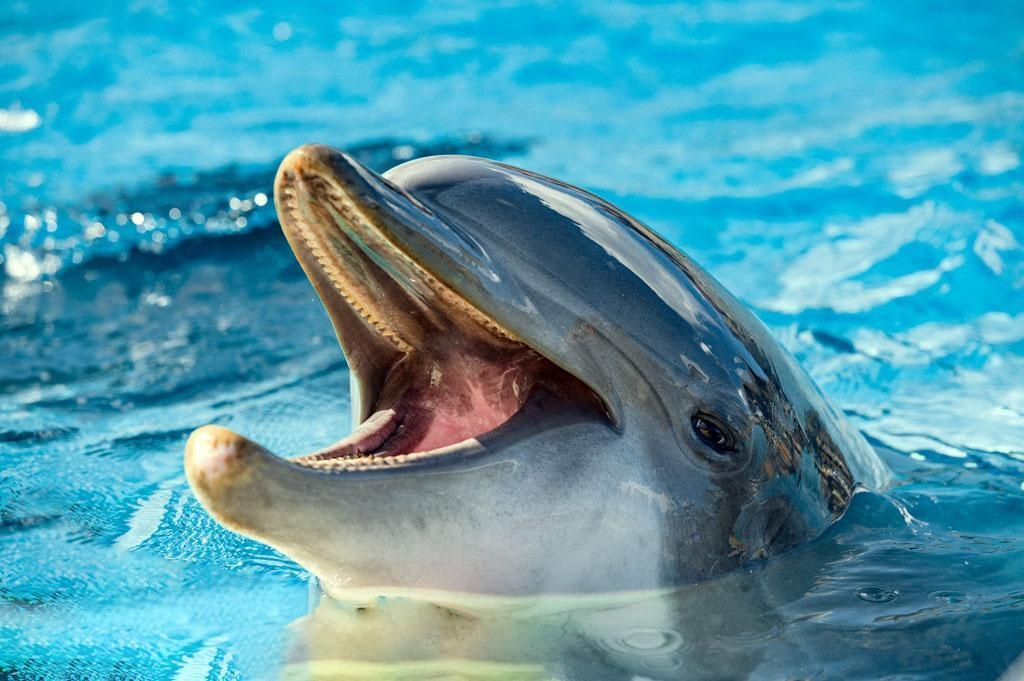fish: (180, 138, 905, 602)
